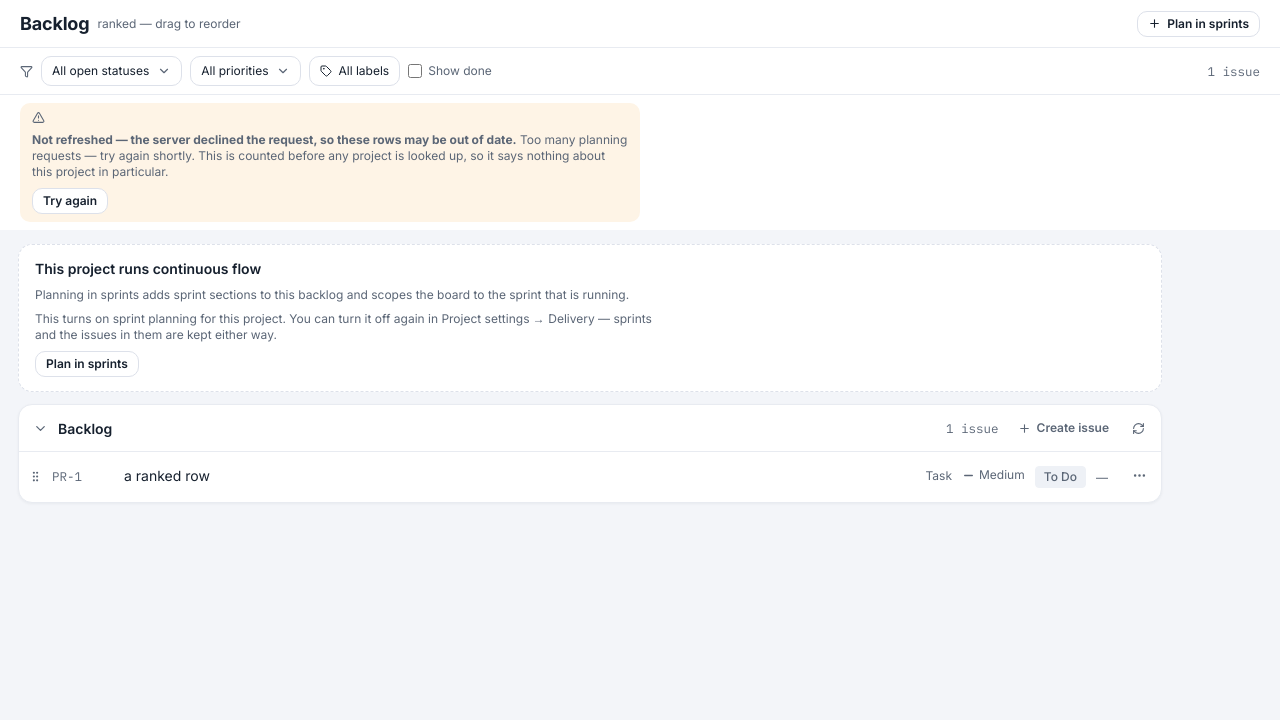
Test case: a busy server is not a missing project (HD-174) › keeps the rows it has when a REFRESH of a loaded view is refused
Check: the text "a ranked row" is shown, box [124,467,210,484]
Click the button named "Collapse section" at (40, 428), box [31,418,50,438]
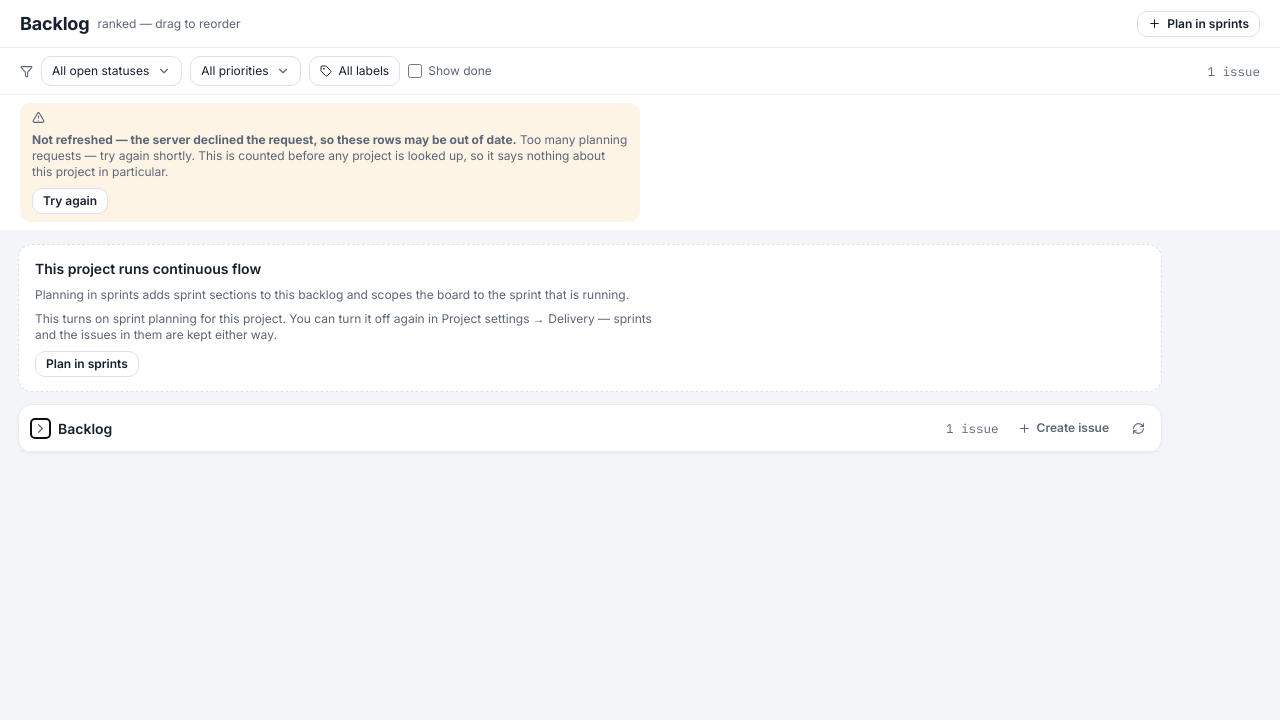
Click the button named "Expand section" at (40, 428), box [31,418,50,438]
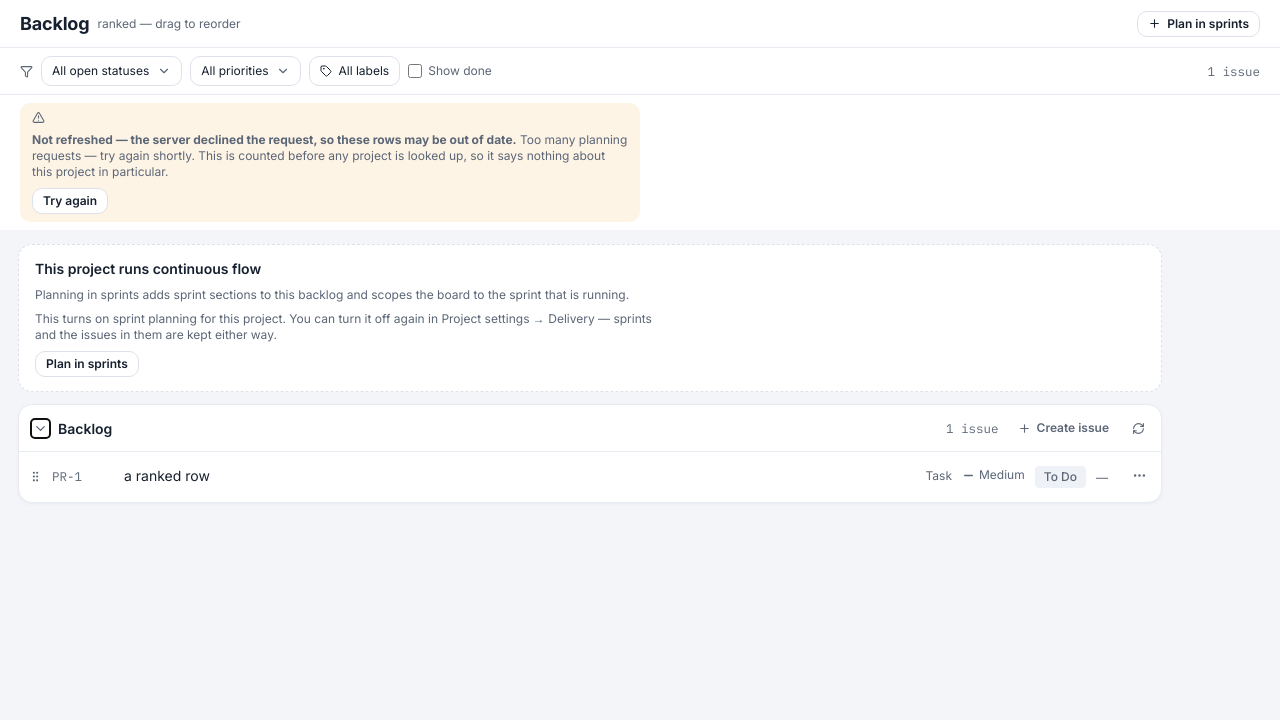
Check: the text "may be out of date" is shown, box [32,132,517,147]
Check: the text "a ranked row" is shown, box [124,467,210,484]
